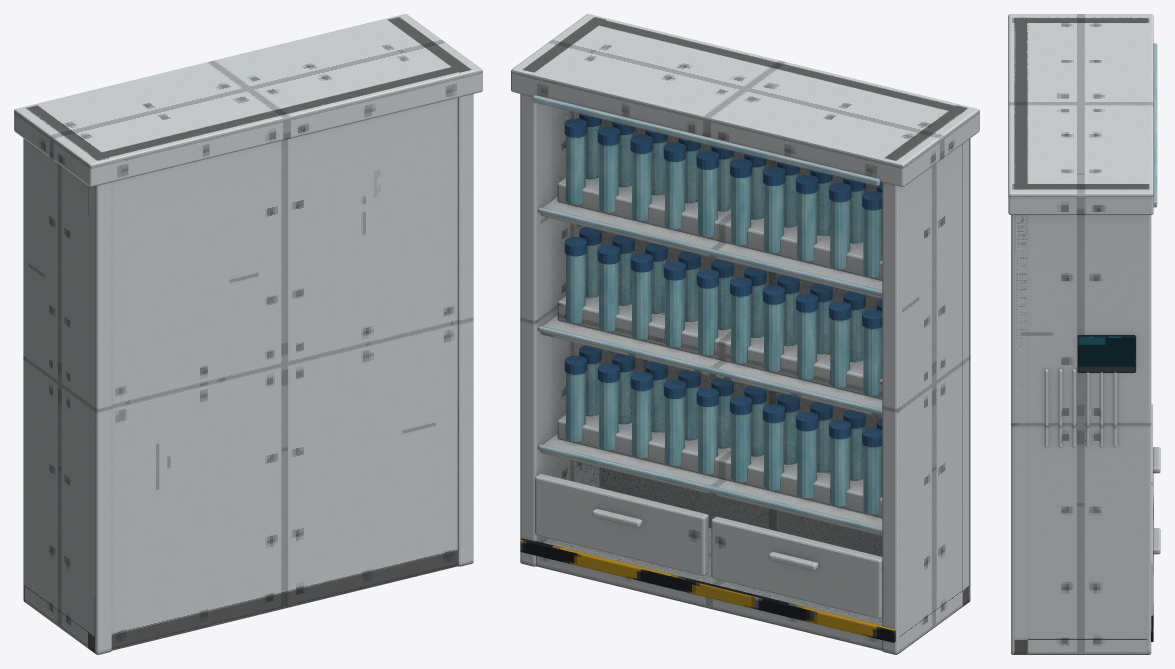
Rendered from base_sample_cabinet.glb.
3 views of the same model, side by side, from view 1: azimuth 30°, elevation 25°; view 2: azimuth 150°, elevation 25°; view 3: azimuth 270°, elevation 25° (orthographic). The views are drawn at different scales.
Parts seen in each view (by area): view 1: base_sample_cabinet.009; view 2: base_sample_cabinet.009; view 3: base_sample_cabinet.009.
Boxes of the visible parts, x1=… form: base_sample_cabinet.009: x1=14, y1=14, x2=482, y2=654; base_sample_cabinet.009: x1=511, y1=14, x2=979, y2=654; base_sample_cabinet.009: x1=1008, y1=14, x2=1160, y2=654.
Size of the model in its own units: 2.5 by 3 by 0.89.
Materials: 7 (7 with a texture image).
